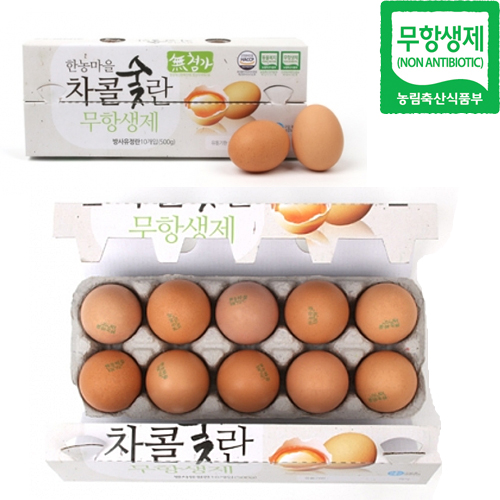egg: (78, 283, 421, 415), (222, 97, 347, 177)
